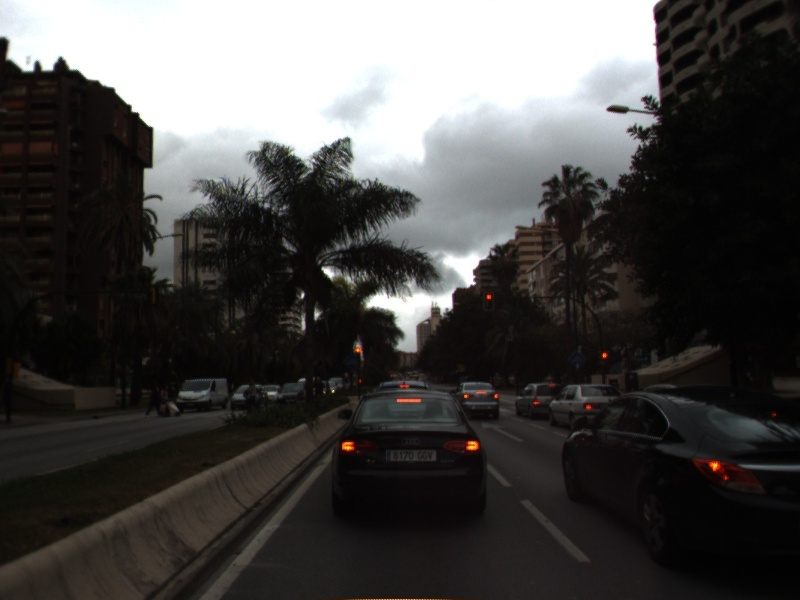STRAIGHT: (479, 419, 527, 444)
